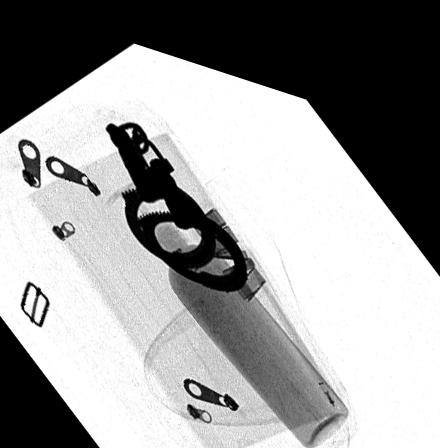HandCuffs: (103, 114, 247, 277)
